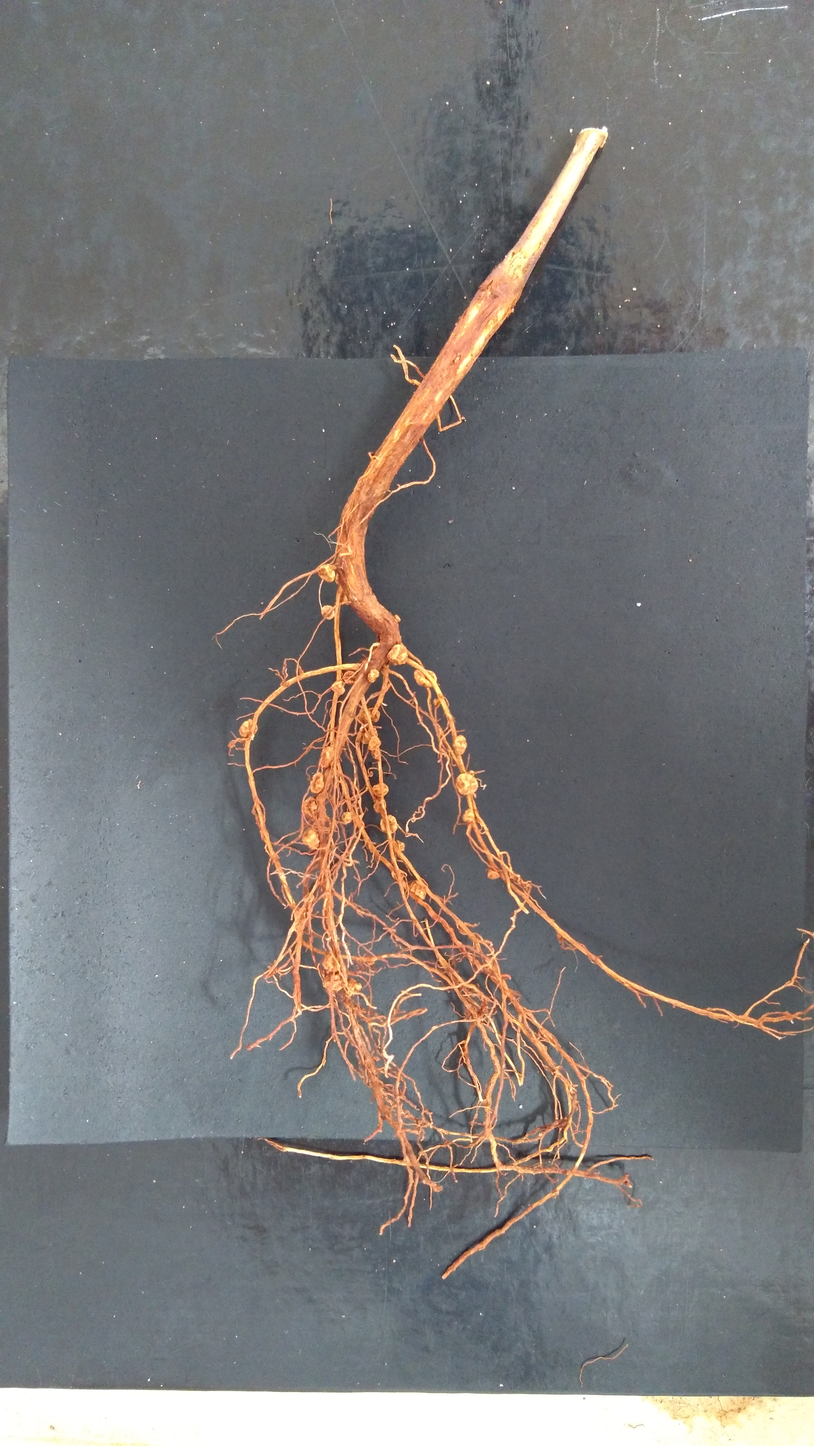nodule: (455, 772, 479, 796), (386, 642, 408, 668), (412, 668, 439, 689), (407, 878, 428, 901), (301, 827, 321, 851), (316, 563, 336, 584), (238, 718, 259, 738), (379, 813, 399, 834), (321, 952, 340, 974), (321, 973, 343, 992), (360, 726, 380, 746), (451, 734, 468, 757), (302, 796, 318, 820), (309, 771, 324, 795), (320, 745, 335, 768), (345, 976, 362, 995), (320, 603, 336, 622), (371, 782, 390, 798), (371, 797, 388, 814), (330, 679, 346, 696), (366, 706, 381, 723), (367, 735, 381, 752), (461, 807, 475, 824), (365, 668, 380, 683), (343, 670, 357, 685), (486, 868, 500, 882), (340, 811, 353, 826), (390, 868, 404, 881), (396, 838, 406, 853), (370, 747, 382, 759), (395, 613, 402, 623)
